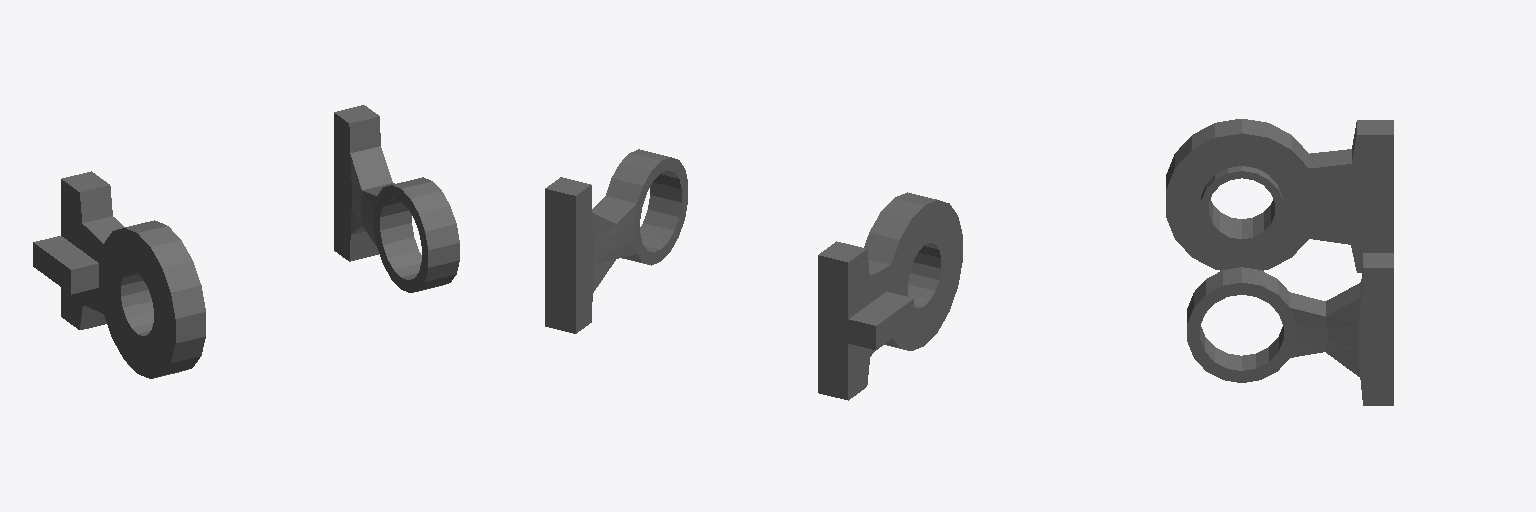
File: LAnkleRoll_secondaryskin.obj
The picture shows the model from 3 angles: view 1: azimuth 30°, elevation 25°; view 2: azimuth 150°, elevation 25°; view 3: azimuth 270°, elevation 25°; orthographic projection.
Size of the model in its own units: 0.119 by 0.0483 by 0.0713.